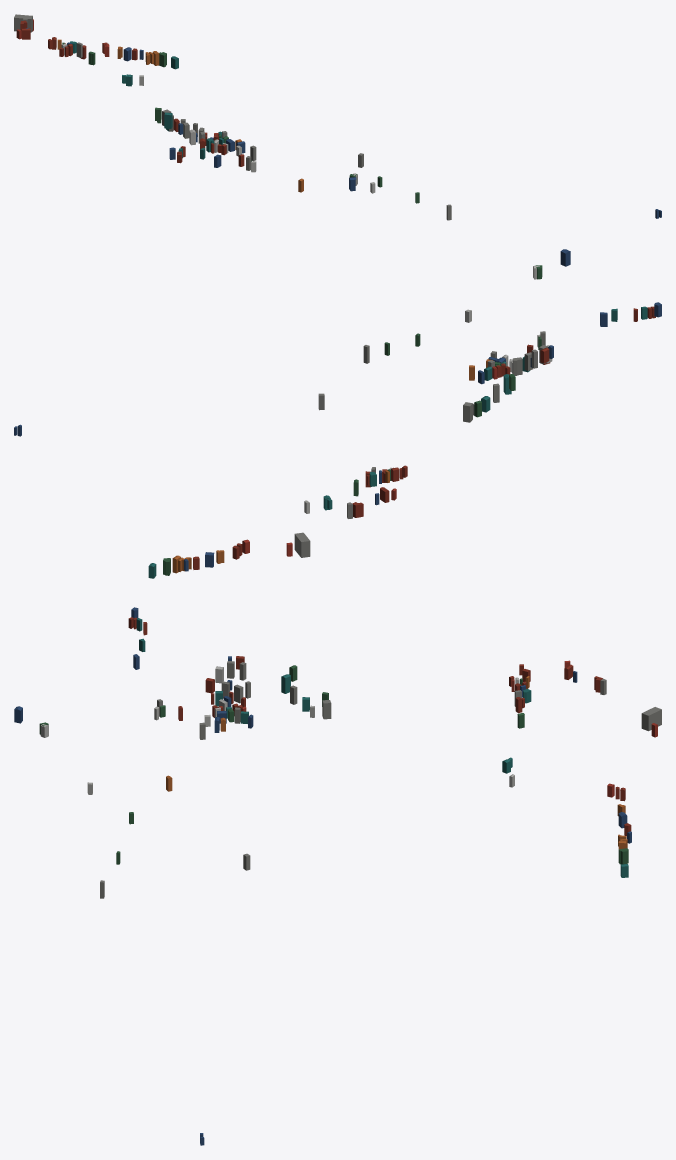
File: near-15-27367-14866.5a2c4fc1.glb
3 renders of one model, top to bottom at view 1: azimuth 30°, elevation 25°; view 2: azimuth 150°, elevation 25°; view 3: azimuth 270°, elevation 25°, orthographic. The views are drawn at different scales.
Size of the model in its own units: 1016 by 403 by 956.
